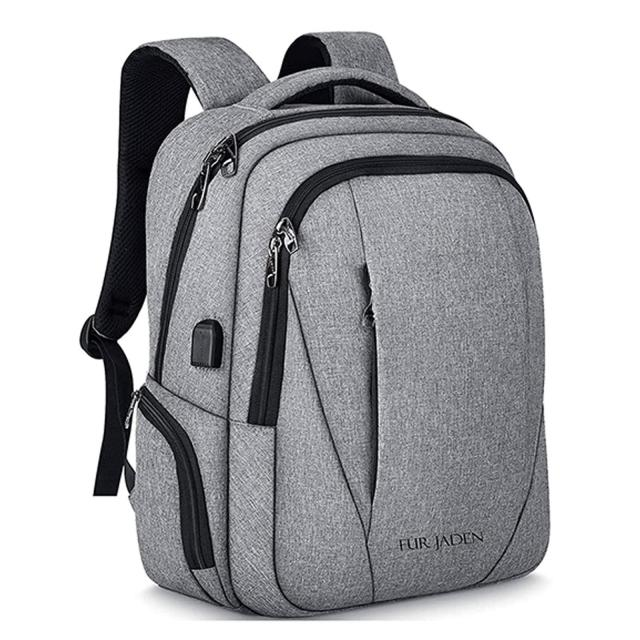backpack: (81, 32, 552, 620)
